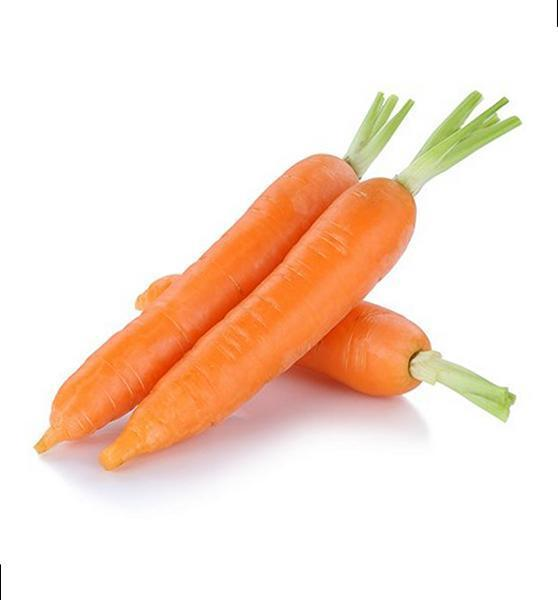carrot: (48, 131, 437, 443)
